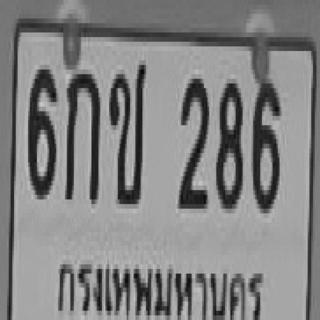A01: (63, 62, 99, 197)
A10: (107, 53, 144, 202)
N02: (176, 74, 208, 204)
N06: (26, 60, 55, 195), (250, 72, 279, 206)
N08: (215, 74, 241, 204)
